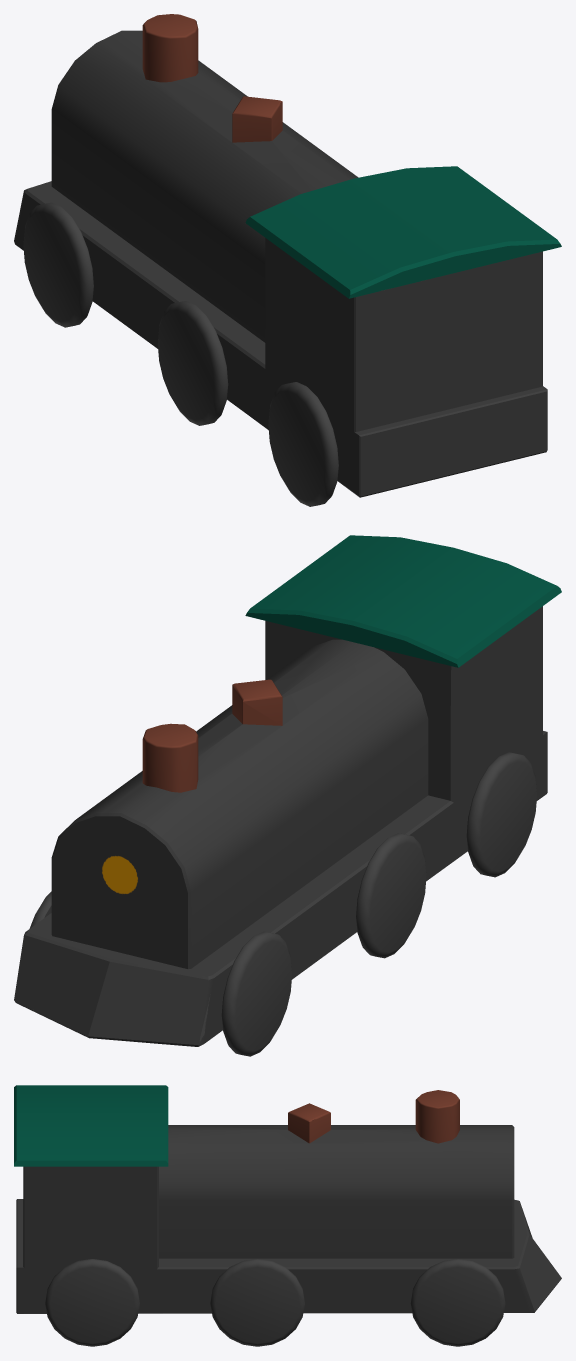
The model's file is train_1.fbx.
3 views of the same model, one above another, from view 1: azimuth 30°, elevation 25°; view 2: azimuth 150°, elevation 25°; view 3: azimuth 270°, elevation 25° (orthographic). The views are drawn at different scales.
Parts seen in each view (by area): view 1: pCube1, group1_pasted__pCylinder1; view 2: pCube1, group1_pasted__pCylinder1; view 3: pCube1, group1_pasted__pCylinder1.
Boxes of the visible parts, <box> form: pCube1: <box>14,14,561,497</box>; group1_pasted__pCylinder1: <box>23,202,338,506</box>; pCube1: <box>14,535,561,1046</box>; group1_pasted__pCylinder1: <box>29,752,536,1056</box>; pCube1: <box>14,1085,561,1313</box>; group1_pasted__pCylinder1: <box>45,1259,505,1346</box>.
Bounding box in the file's own units: 34.06 × 43.2 × 102.
Materials: 2 (1 with a texture image).
